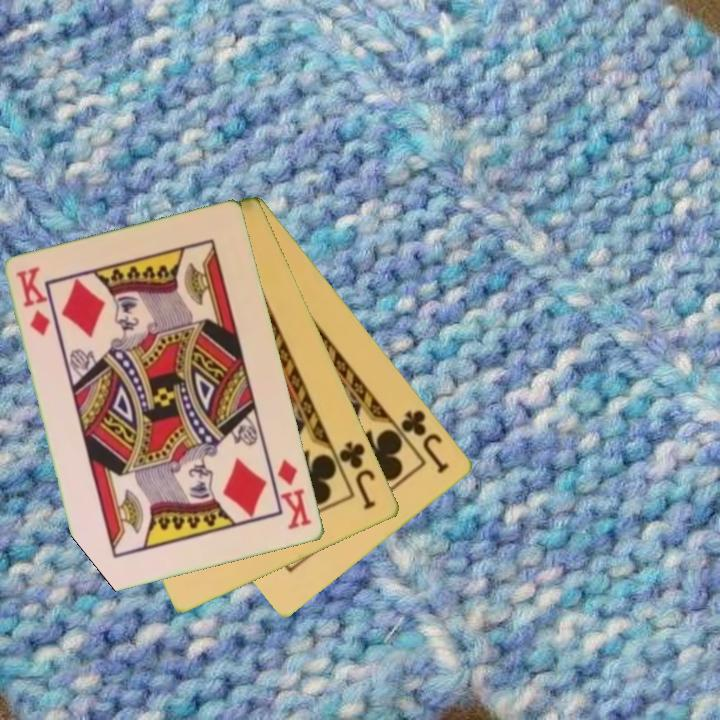Jc: (397, 406, 453, 477), (335, 437, 380, 513)
Kd: (274, 456, 315, 533), (13, 264, 54, 340)
